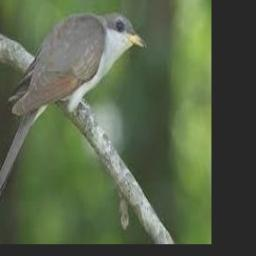Cuckoo: (0, 11, 146, 210)
